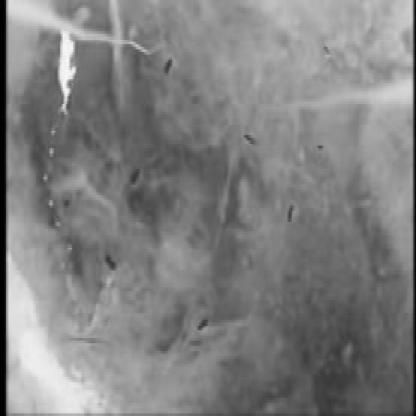rehkitze: (55, 24, 77, 115)
